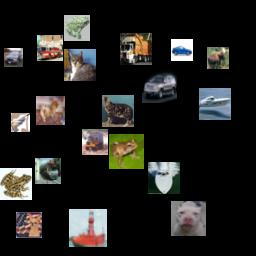airplane: (11, 113, 30, 132)
automobile: (142, 68, 177, 103), (171, 39, 193, 61), (4, 48, 23, 67)
cat: (102, 95, 134, 127), (64, 49, 96, 81)
deer: (207, 47, 229, 69)
dog: (171, 201, 206, 236), (36, 96, 65, 125), (16, 212, 42, 238)
frog: (109, 134, 144, 169), (0, 168, 32, 200), (64, 15, 90, 41)
ship: (69, 209, 107, 247), (199, 88, 231, 120), (148, 162, 180, 194)
truck: (120, 33, 152, 65), (37, 35, 63, 61), (35, 158, 61, 184), (82, 129, 108, 155)
